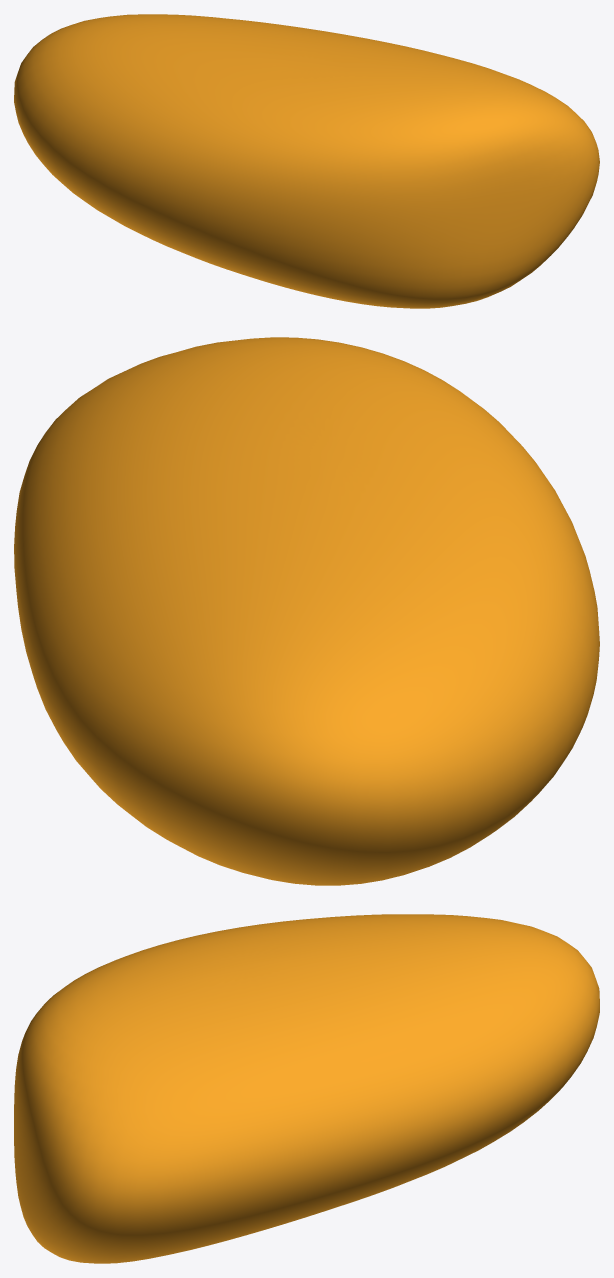
The model's file is Puff4.fbx.
3 renders of one model, top to bottom at view 1: azimuth 30°, elevation 25°; view 2: azimuth 150°, elevation 25°; view 3: azimuth 270°, elevation 25°, orthographic. The views are drawn at different scales.
Visible parts, largest first — view 1: Puff4; view 2: Puff4; view 3: Puff4.
Boxes of the visible parts, x1,y1,x2,y2 form: Puff4: (14,14,599,308); Puff4: (14,337,599,885); Puff4: (14,914,599,1263).
Size of the model in its own units: 0.6618 by 0.312 by 0.6941.
